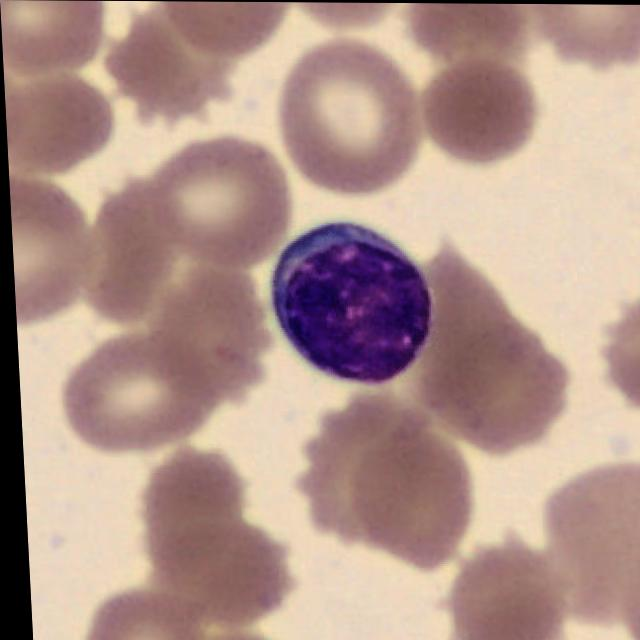Linfocito: (267, 223, 428, 387)
